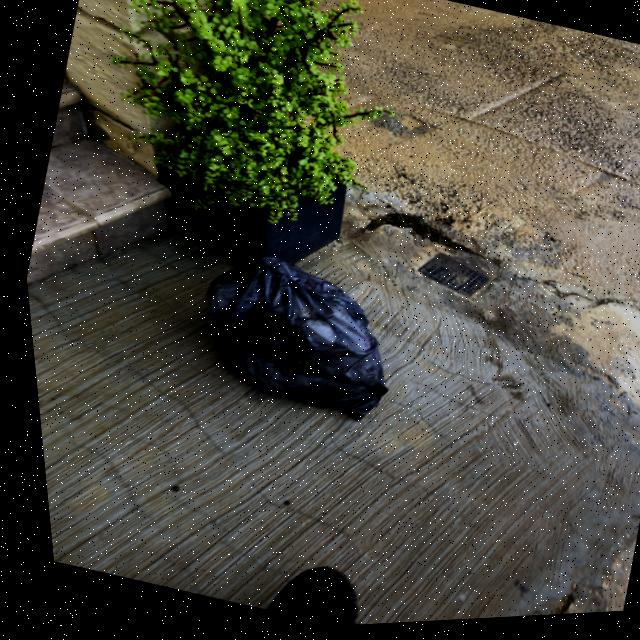Mixed Waste -Black Bag-: (172, 238, 413, 438)
